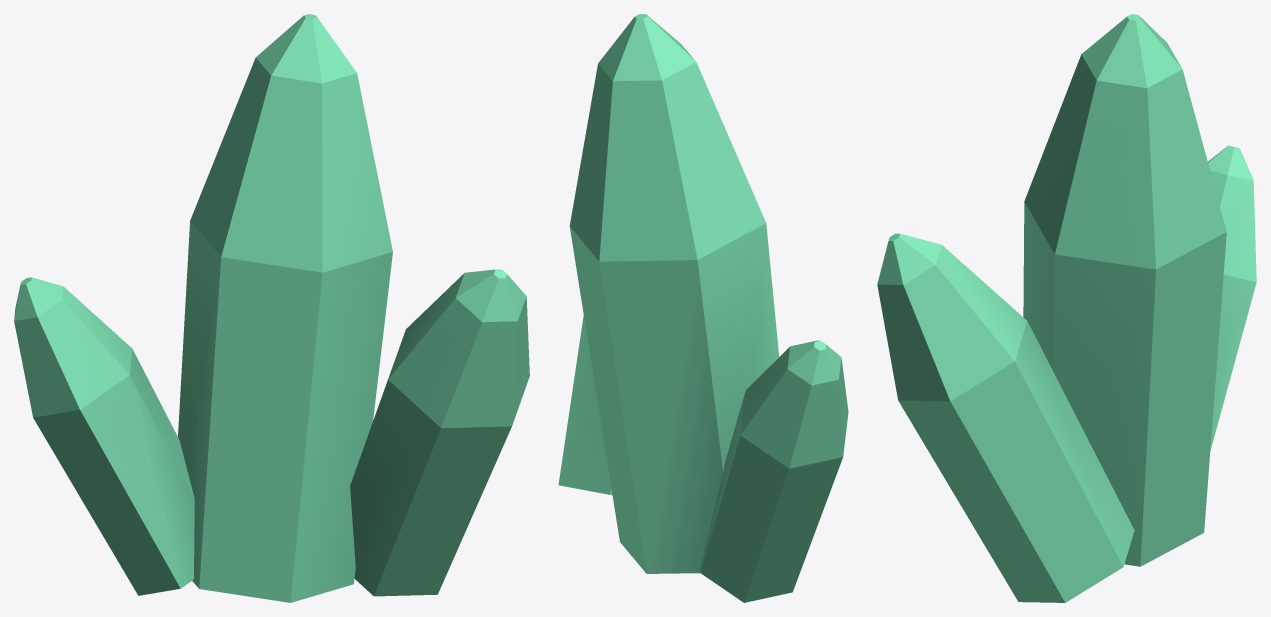
File: gem.glb
The picture shows the model from 3 angles, left to right: view 1: azimuth 30°, elevation 25°; view 2: azimuth 150°, elevation 25°; view 3: azimuth 270°, elevation 25°; orthographic projection. The views are drawn at different scales.
Parts seen in each view (by area): view 1: Gem; view 2: Gem; view 3: Gem.
Boxes of the visible parts, bbox=[...] form: Gem: bbox=[14, 14, 529, 602]; Gem: bbox=[558, 14, 848, 602]; Gem: bbox=[877, 14, 1256, 602].
Size of the model in its own units: 1.25 by 1.76 by 1.09.
